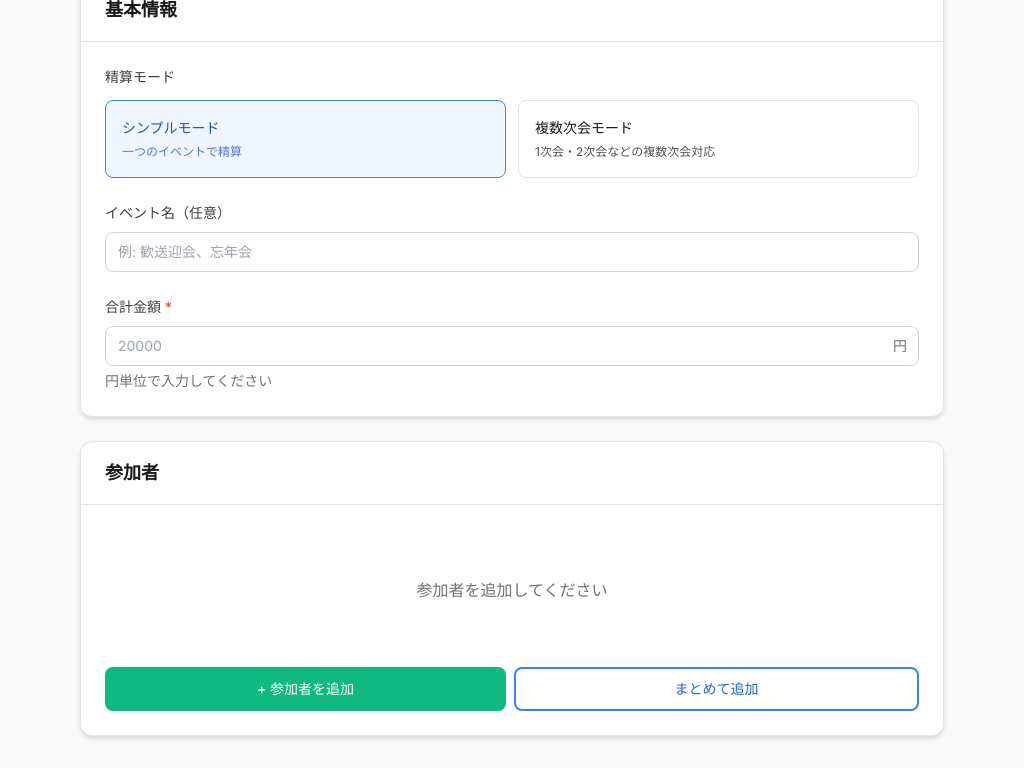
Test: HomePage › TC007: 参加者が正常に追加される
(page scrolled)
Note: 参加者追加モーダルを開く
Click the button "+ 参加者を追加" at (306, 689), box [105,667,506,711]
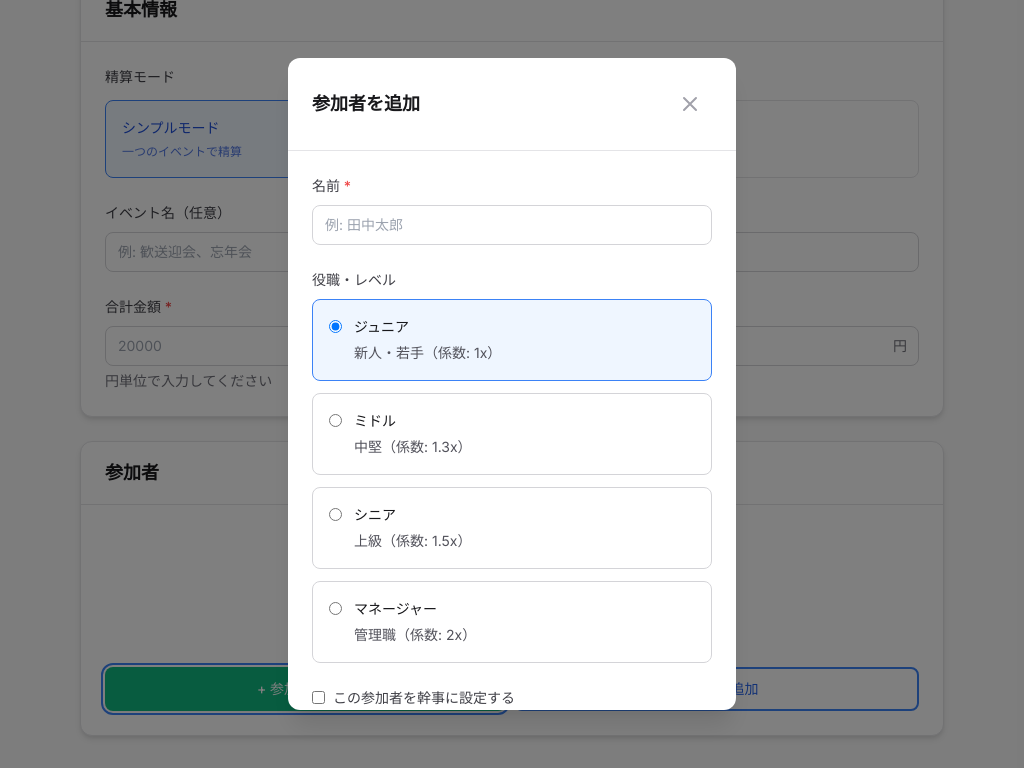
Now the heading "参加者を追加" is shown, box [312,89,436,119]
Note: 参加者情報を入力
Type "田中太郎" into the field labelled "名前 *" at (512, 225), box [312,205,712,245]
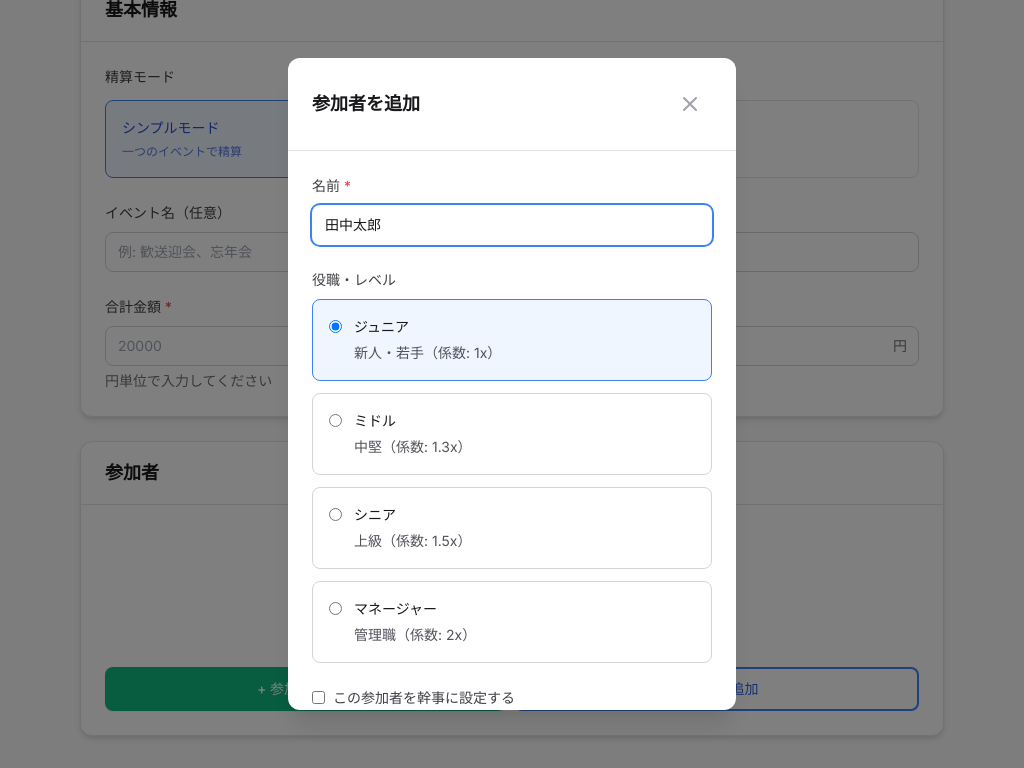
Click the radio button labelled "ミドル 中堅（係数: 1.3x）" at (336, 420), box [329,414,342,427]
(page scrolled)
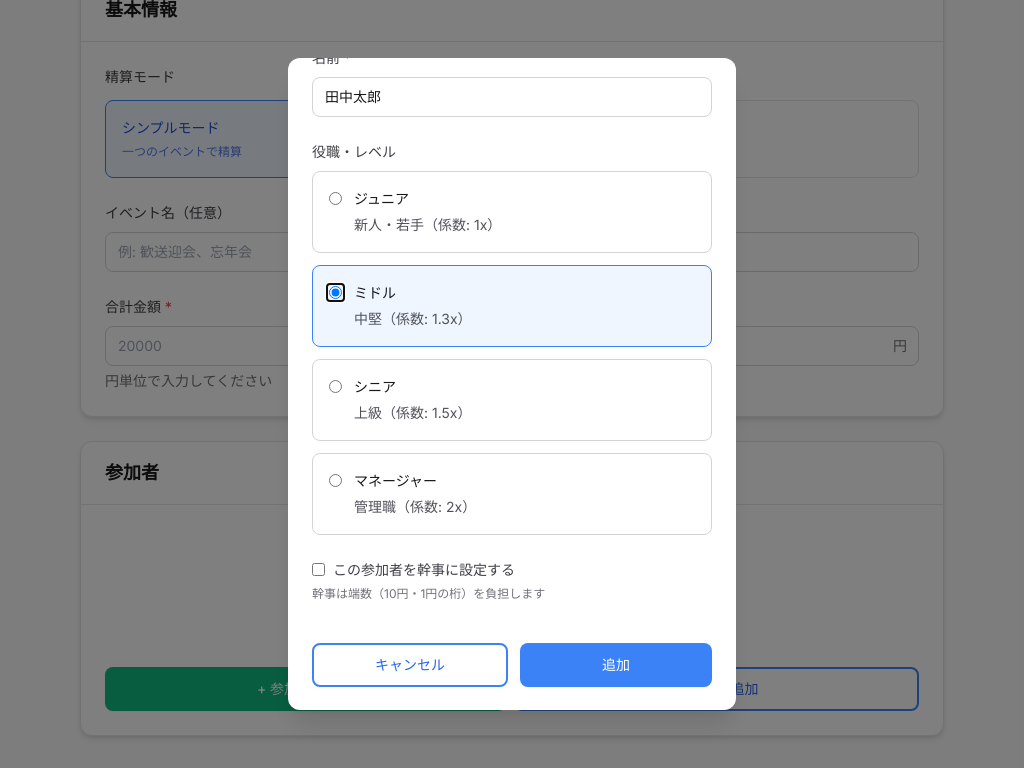
Click the button "追加" at (616, 665), box [520,643,712,687]
(page scrolled)
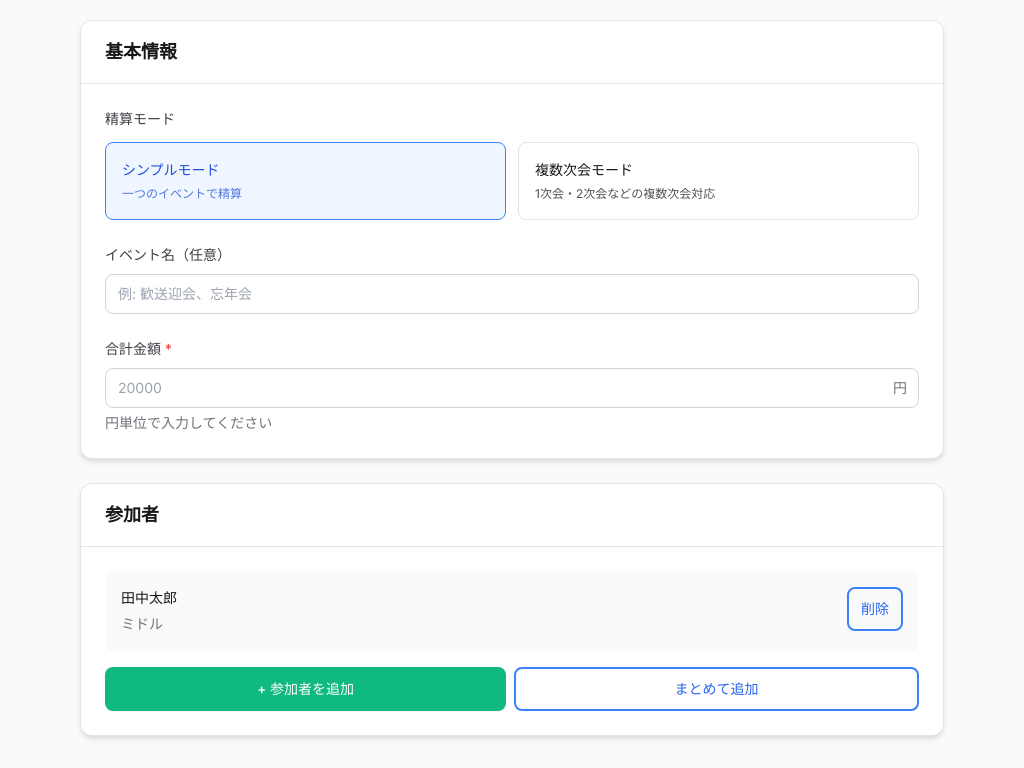
Now the text "ミドル" is shown, box [121,615,163,632]
Now the text "田中太郎" is shown, box [121,589,177,606]
Now the button "削除" is shown, box [847,587,903,631]
